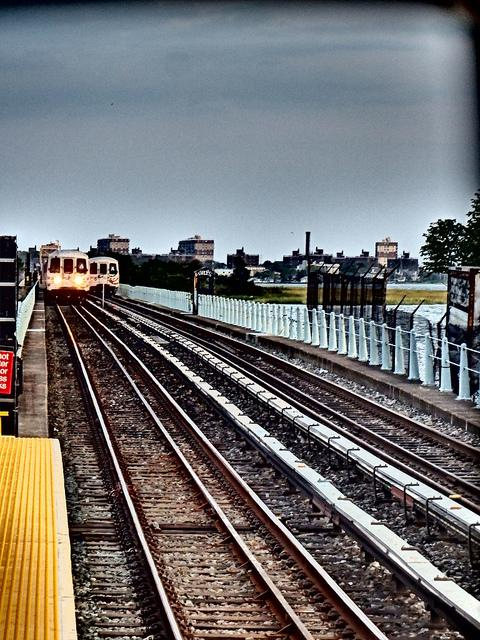Train: (47, 250, 90, 307), (90, 258, 123, 297)
